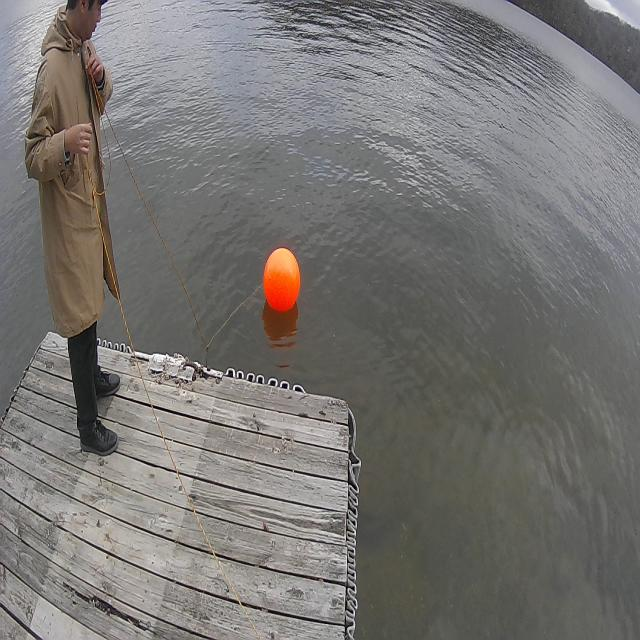Buoy: (260, 241, 302, 318)
